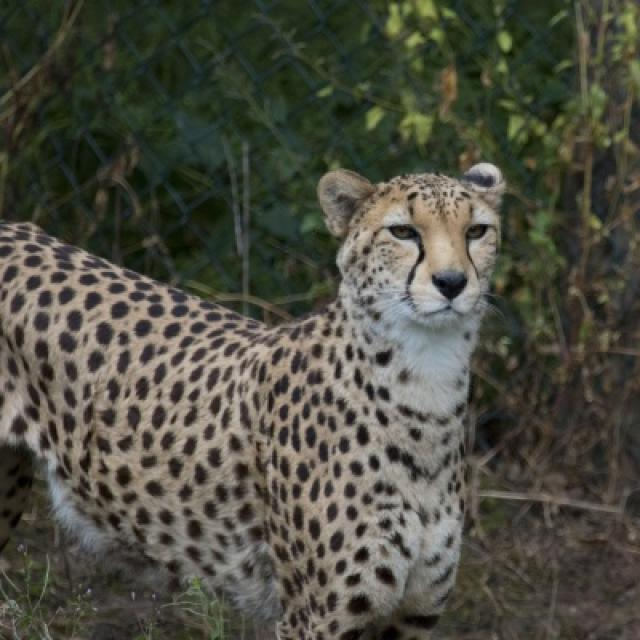Cheetah: (0, 163, 504, 638)
